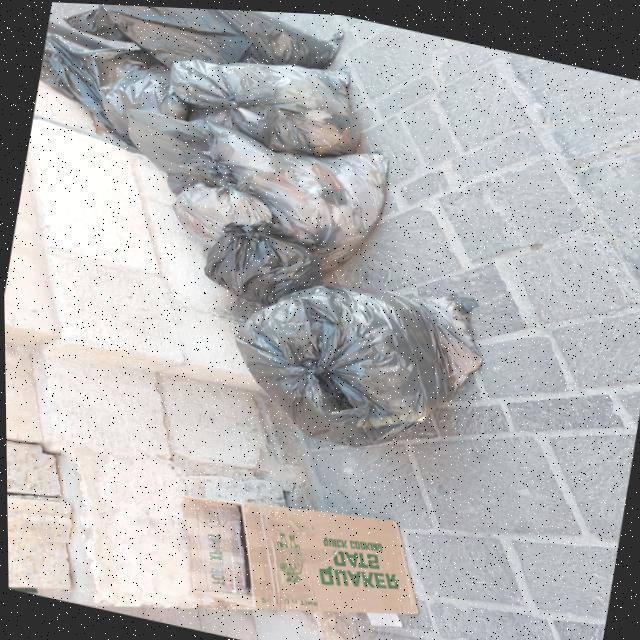Mixed Waste -Black Bag-: (216, 244, 493, 468), (107, 94, 394, 282), (161, 27, 375, 167), (58, 3, 349, 102), (31, 29, 175, 151), (199, 208, 330, 314), (164, 159, 280, 261)
Other: (161, 472, 432, 640)
